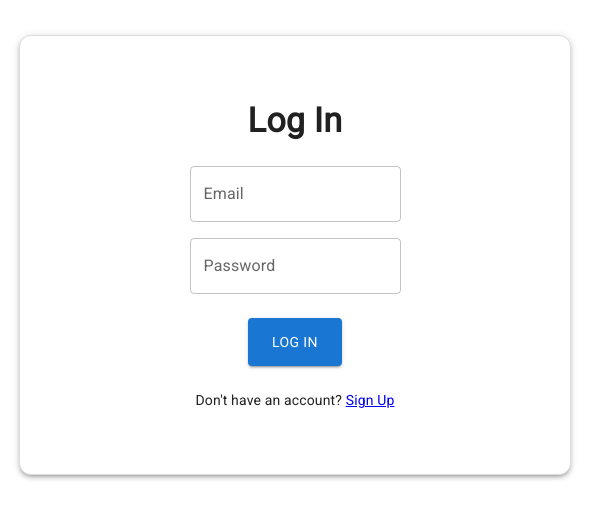
Test: Login Component › shows error message when login fails
This screenshot has width=591, height=515.
Type "user@example.com" into the field labelled "Email".
click(295, 194); type("user@example.com")  # box [190,166,400,222]
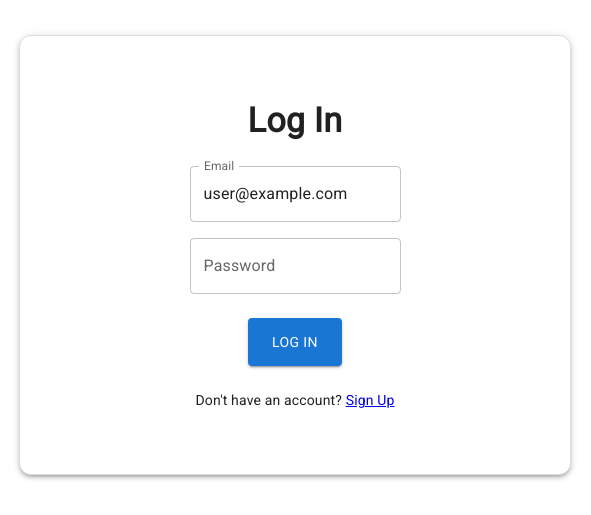
Type "password" into the password field labelled "Password".
click(295, 266); type("password")  # box [190,238,400,294]
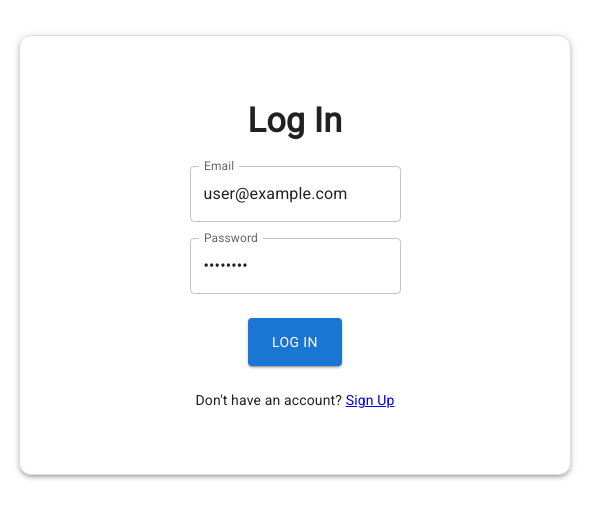
Click the button with test id "login-button".
click(295, 342)  # box [248,318,342,366]
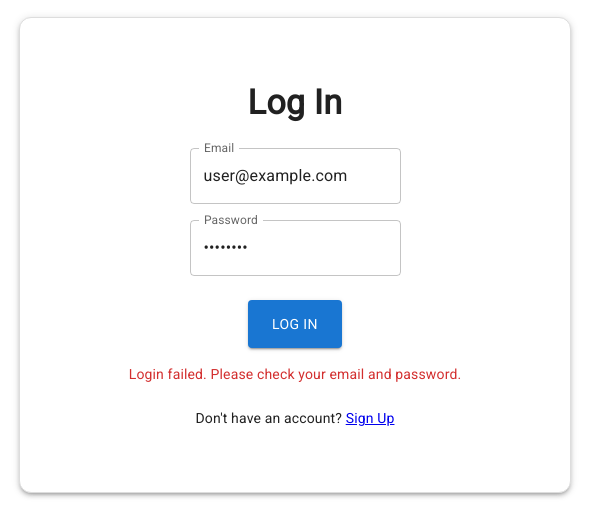
Expected: the text "Login failed. Please check your email and password." is shown, [129,366,461,382]
